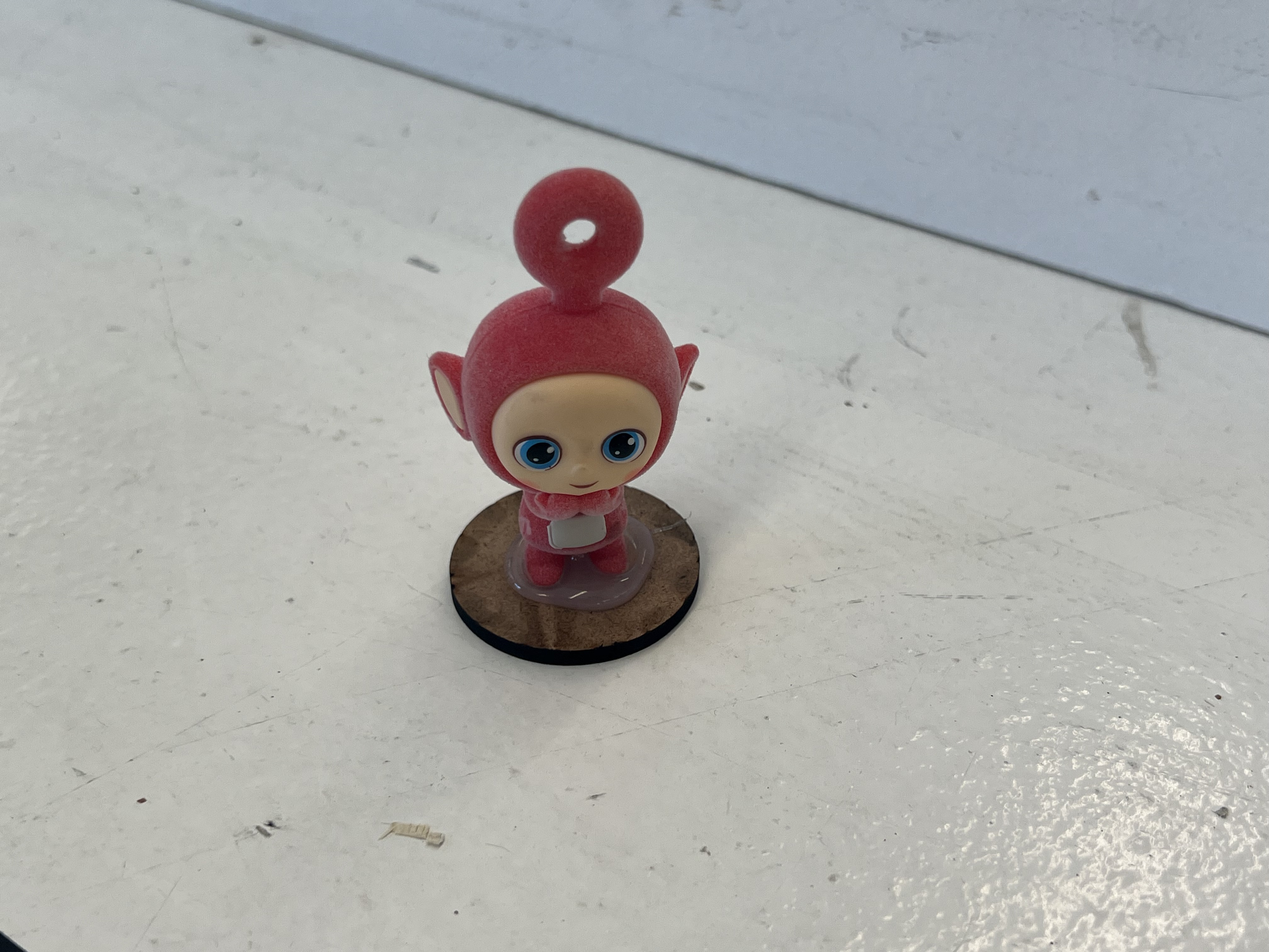teletubby: (429, 168, 698, 586)
